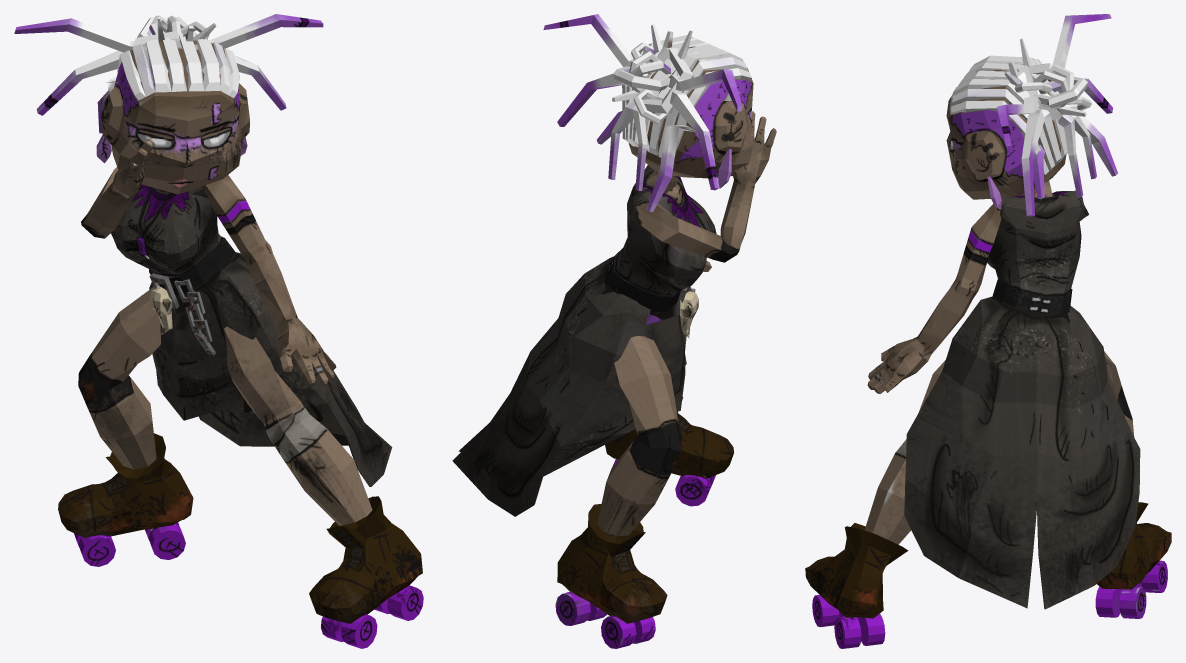
Rendered from bruja_000064.obj.
The picture shows the model from 3 angles, left to right: view 1: azimuth 30°, elevation 25°; view 2: azimuth 150°, elevation 25°; view 3: azimuth 270°, elevation 25°; orthographic projection. The views are drawn at different scales.
Visible parts, largest first — view 1: Bruja_Plane.001; view 2: Bruja_Plane.001; view 3: Bruja_Plane.001.
Boxes of the visible parts, x1,y1,x2,y2 form: Bruja_Plane.001: (14,14,423,648); Bruja_Plane.001: (452,14,776,648); Bruja_Plane.001: (805,14,1171,648).
Size of the model in its own units: 9.2 by 15.42 by 9.25.
